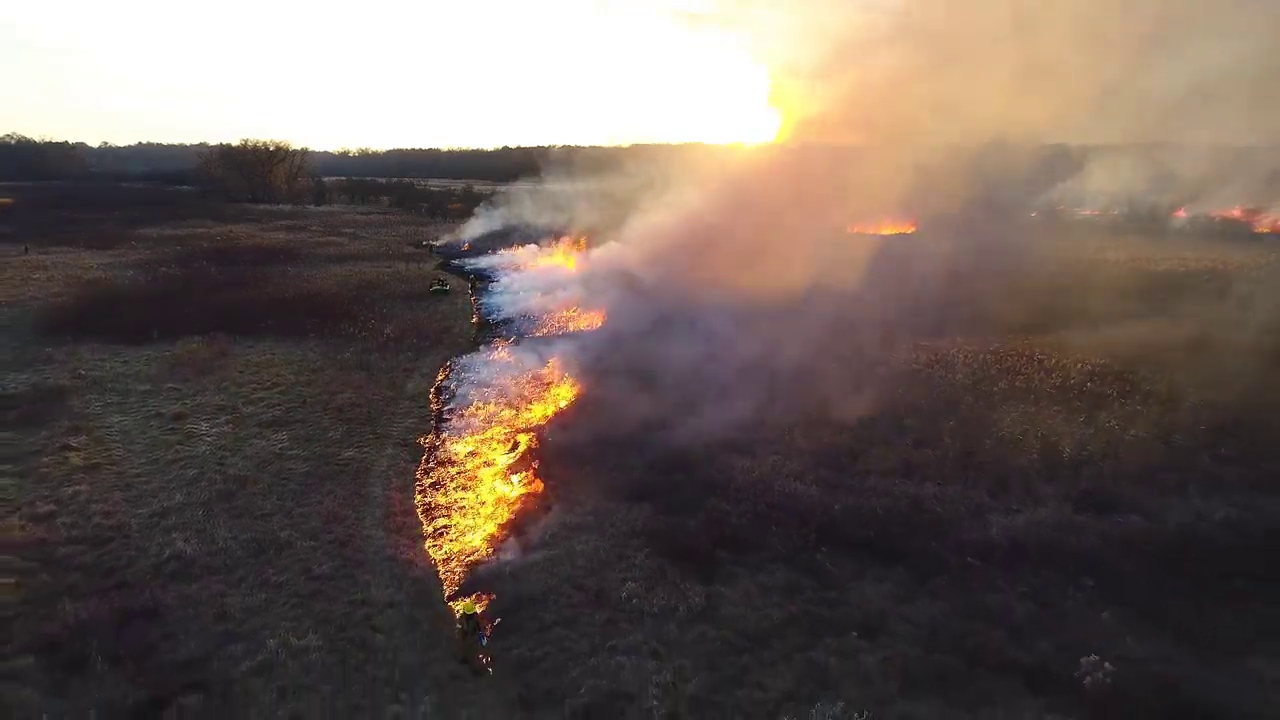forest_fire: (415, 236, 605, 614), (1171, 206, 1279, 233), (847, 218, 917, 236)
